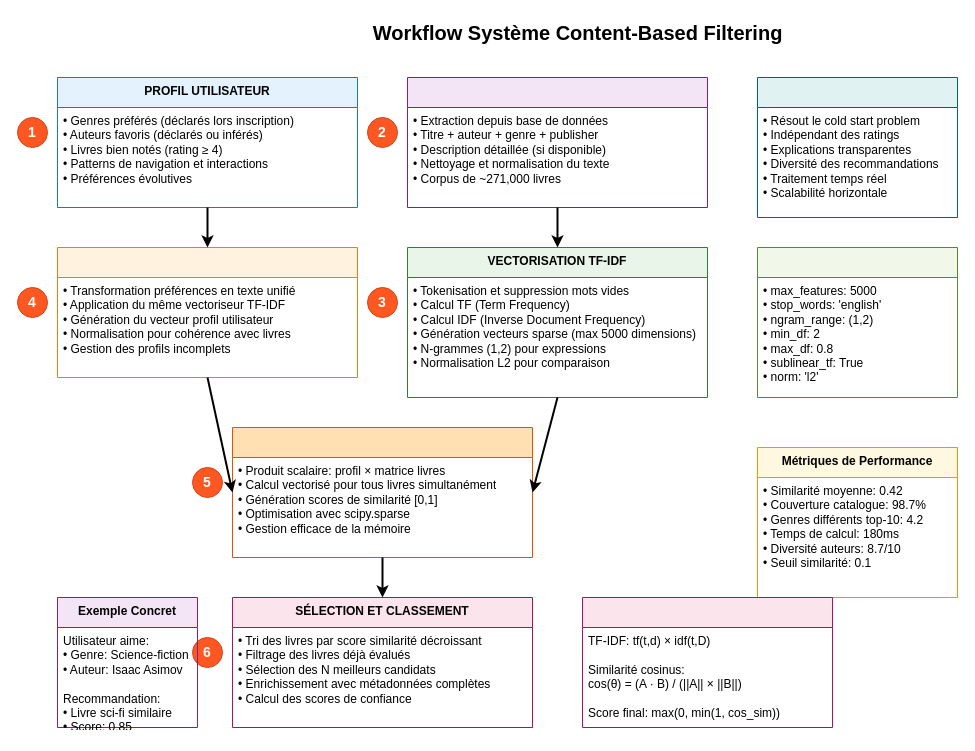
This 975x751 diagram has some shape labels left out. The shapes that lost their labels are listed below. From the top down, each one's box as (x1, y1, x2, y2) in pixels, then its label:
(406, 76, 708, 208): MÉTADONNÉES DES LIVRES
(756, 76, 958, 218): Avantages du Système
(56, 246, 358, 378): CRÉATION PROFIL VECTORISÉ
(756, 246, 958, 398): Paramètres TF-IDF
(232, 426, 532, 558): CALCUL DES SIMILARITÉS
(582, 596, 832, 728): Formules Mathématiques
